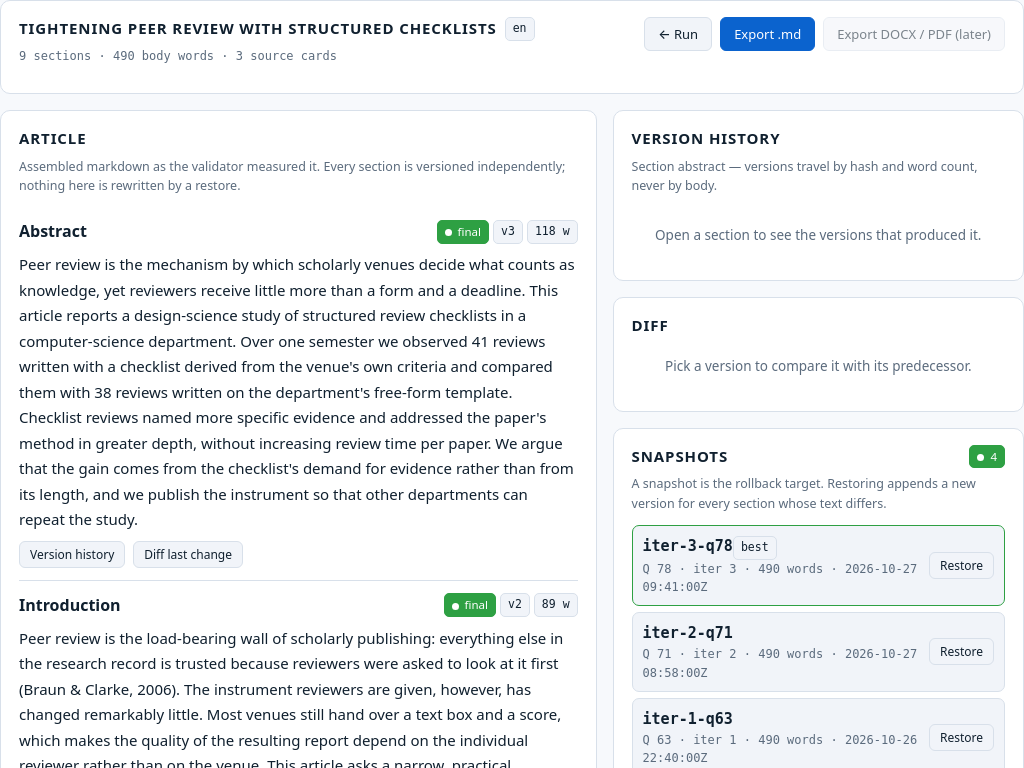
Test: ArticleViewer (sections, history, diff, restore, RTL, export) › restores a snapshot and reports it as new versions, not a rewrite
expect the text "iter-3-q78" is shown: met, box left=643, top=537, right=733, bottom=555
Click the button "Restore" in the row of "iter-3-q78" at (961, 566), box left=929, top=552, right=994, bottom=579
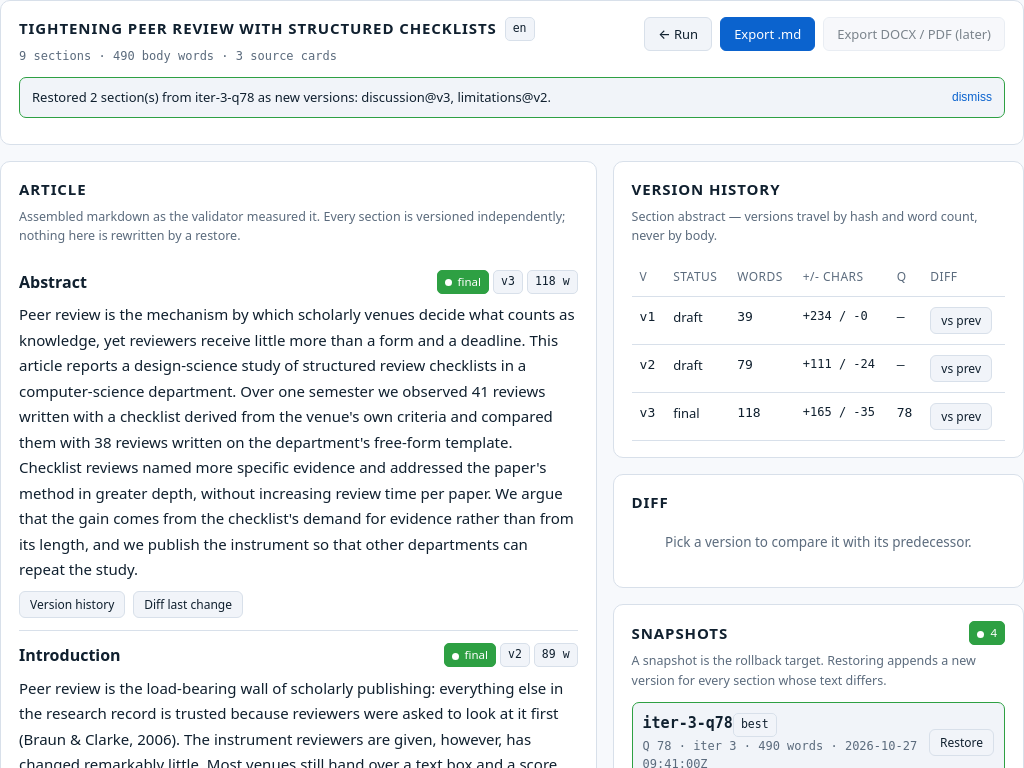
expect the message with class "notice" shows "Restored 2 section": met, box left=32, top=88, right=551, bottom=106
